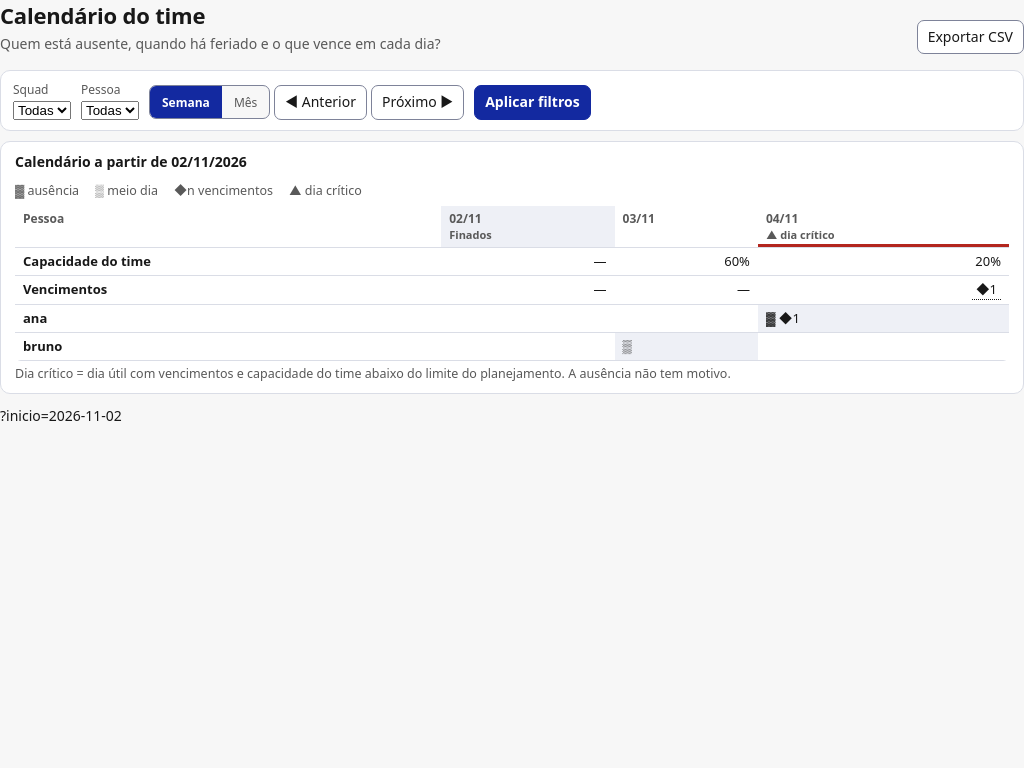
Test case: tela Calendário do time › calendarioCelulaAbreGaveta
This screenshot has width=1024, height=768.
Click the button named "Vencem em 04/11/2026: 1" at [986, 290], box [972,280,1001,300]
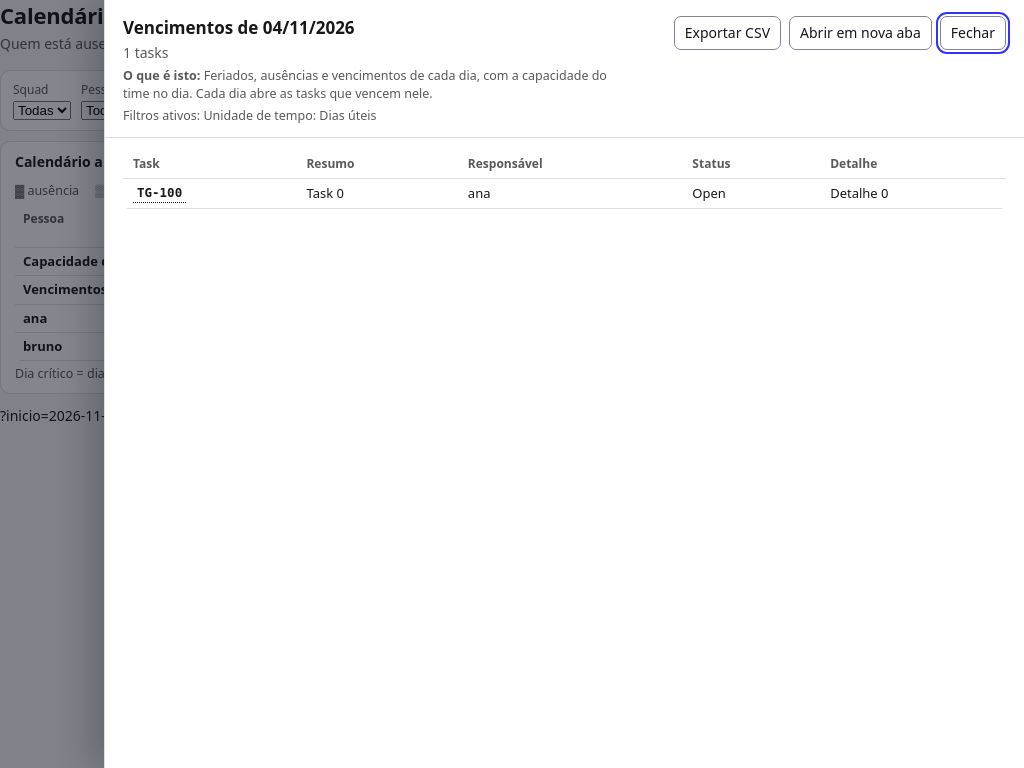
Now the text "1 tasks" is shown, box [123,43,168,62]
